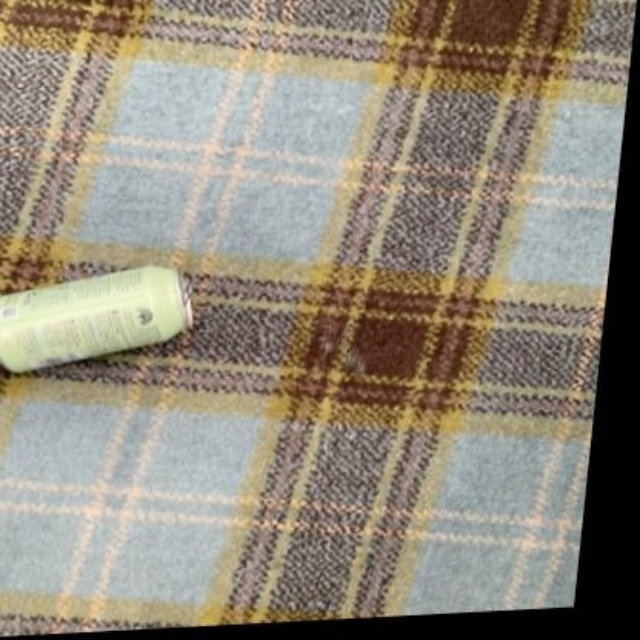trash: (0, 266, 191, 371)
